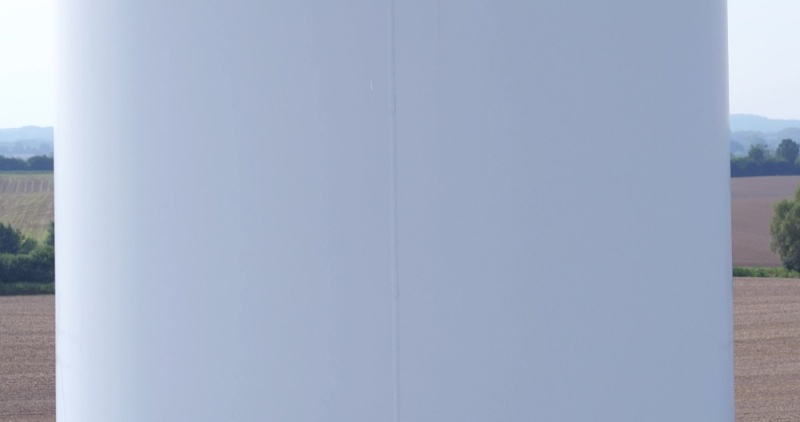weldseam: (380, 1, 410, 422)
